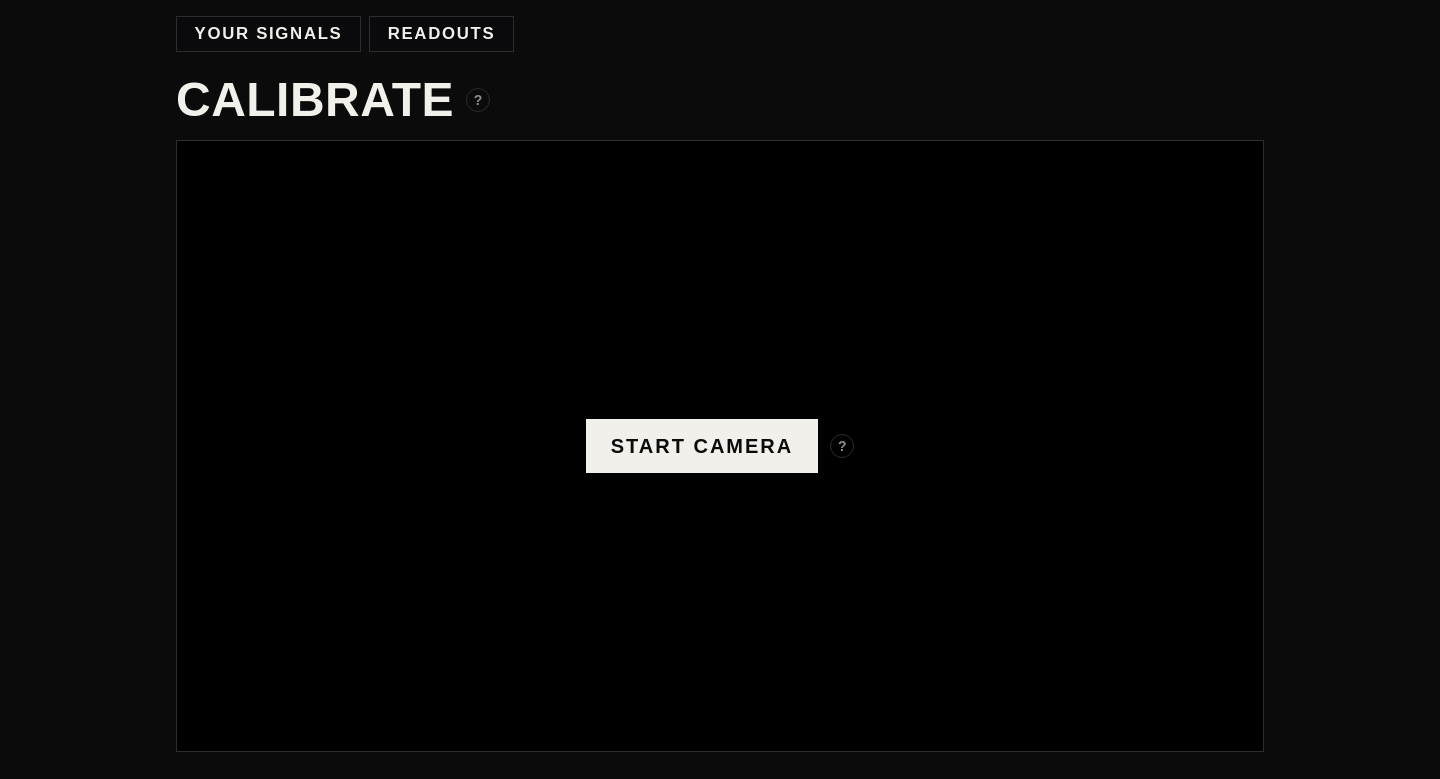
Calibrate › reads the live pose into the anatomically-correct column
Click the button "Start camera": click(702, 446) 586,419 -> 818,473
(page scrolled)
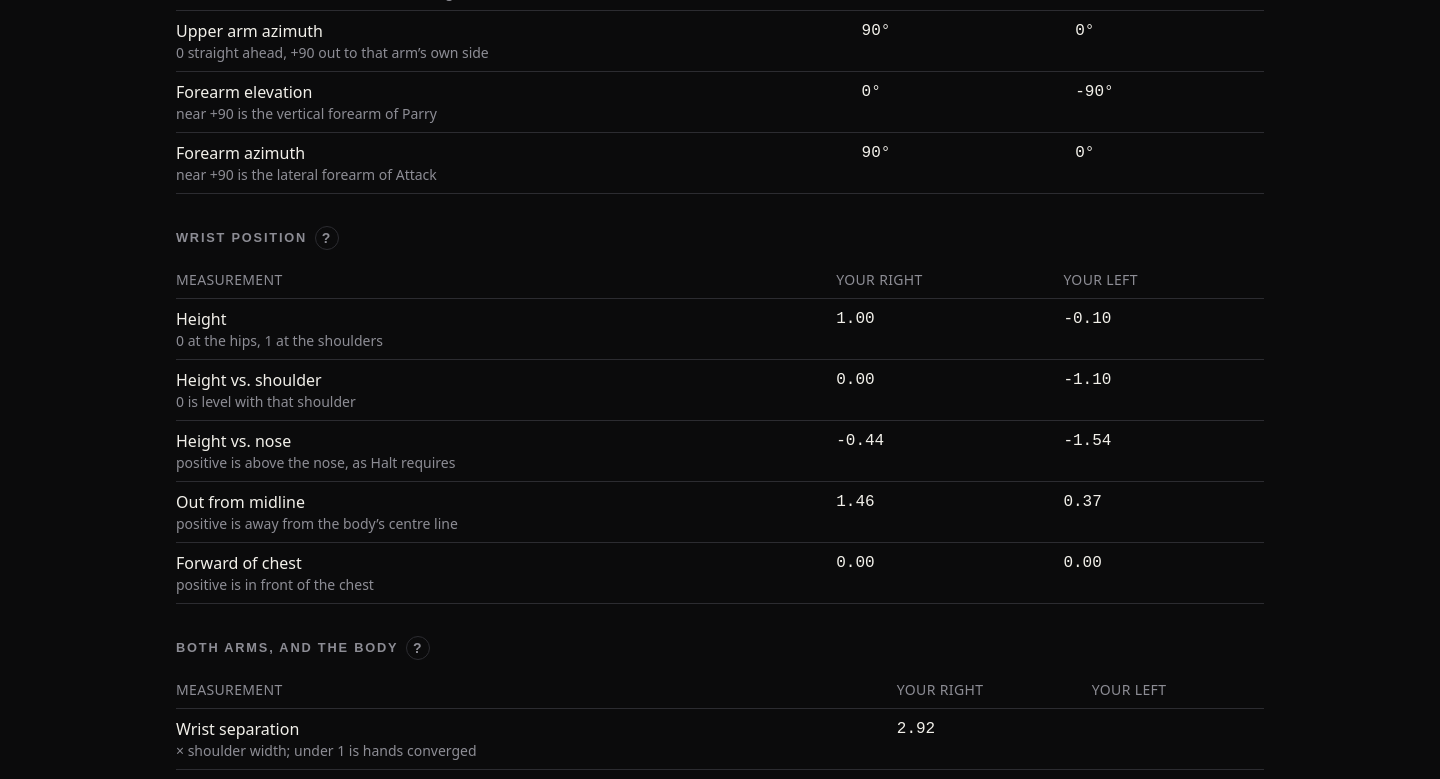
Expected: the cell "0.00" in the row of "Height vs. shoulder" is shown, 836,371 -> 875,389
